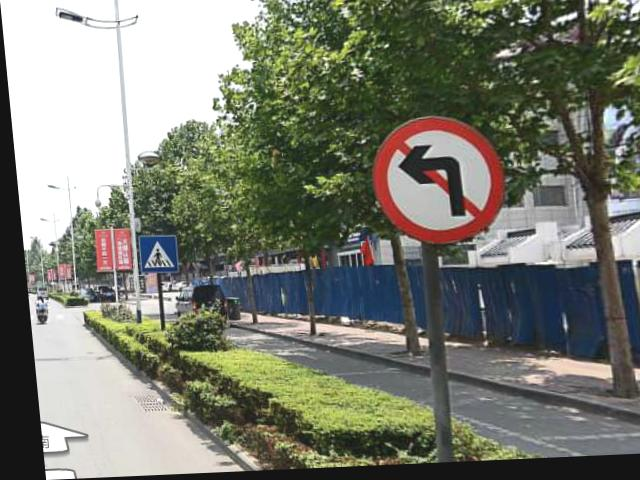not_turn_left: (364, 117, 508, 253)
